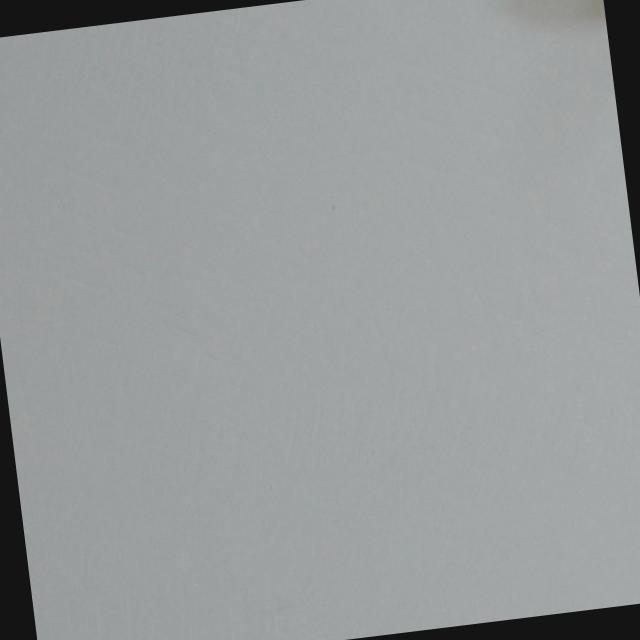no_canjicado: (581, 0, 606, 26)
